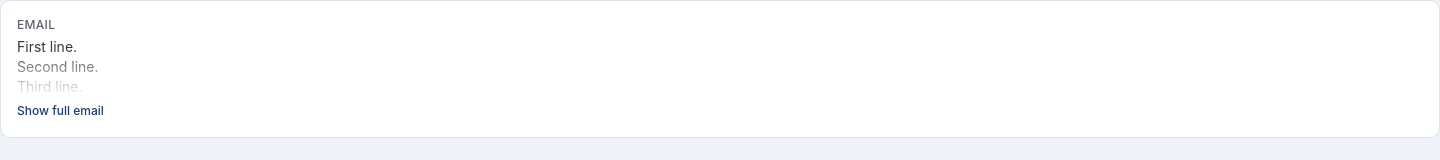
Test case: a long email body › is clipped with a button that expands and collapses it
Click the button "Show full email" at (60, 111), box [17,103,104,119]
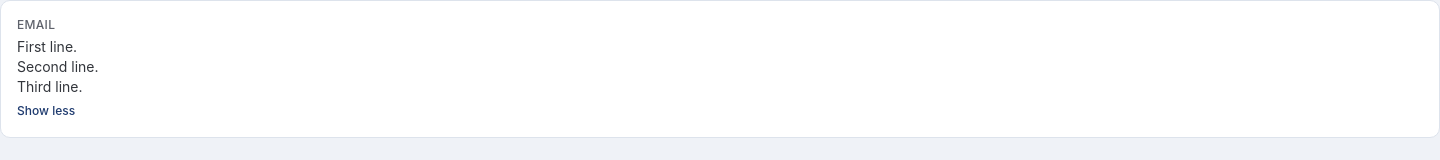
Expected: the button named "Show full email" reads "Show less", [17,103,75,119]
Expected: the button named "Show full email" is expanded, [17,103,75,119]
